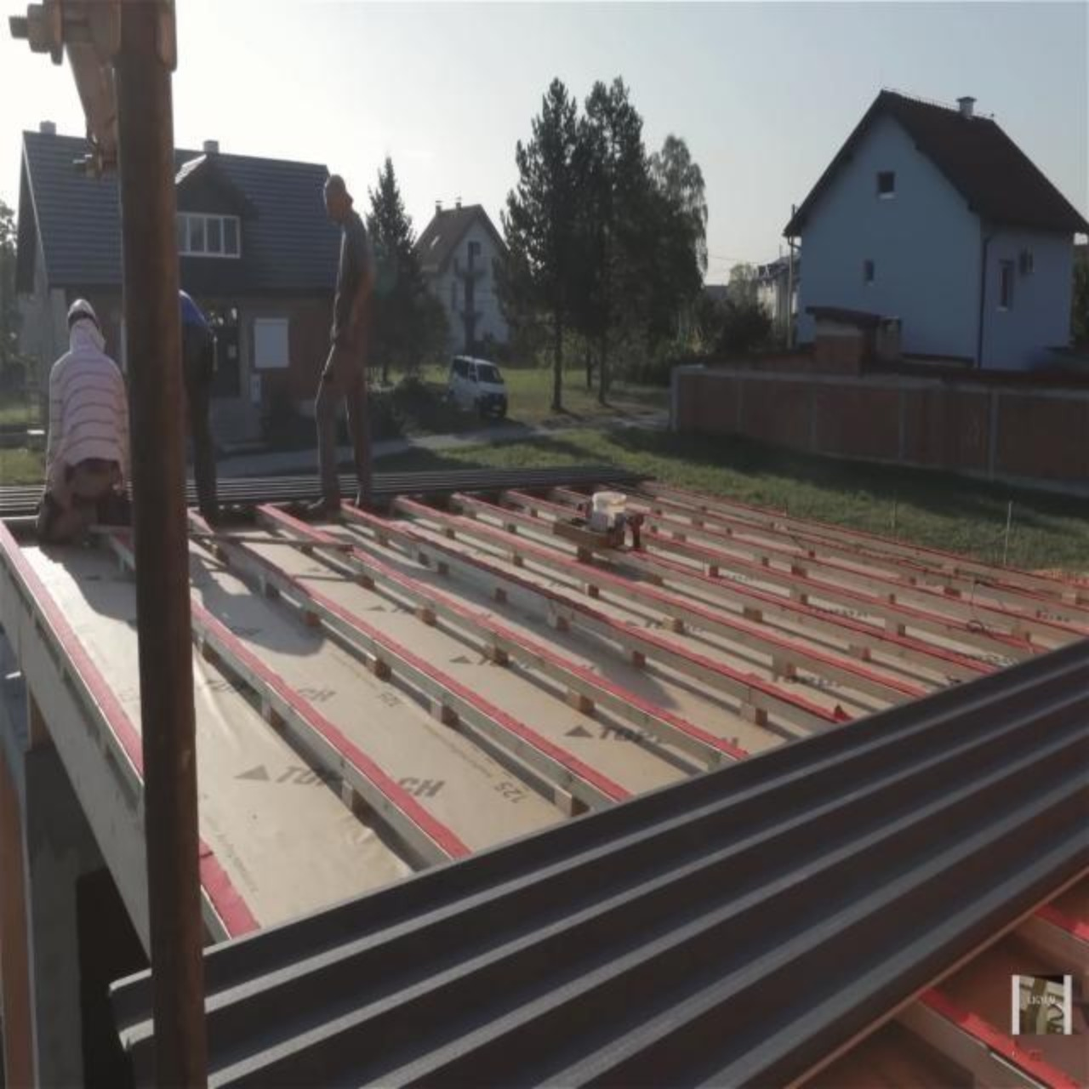helmet: (67, 298, 103, 349)
no_helmet: (325, 170, 356, 231)
no_vest: (45, 345, 132, 499), (329, 215, 372, 343)
person: (29, 298, 134, 550), (305, 168, 376, 519)
